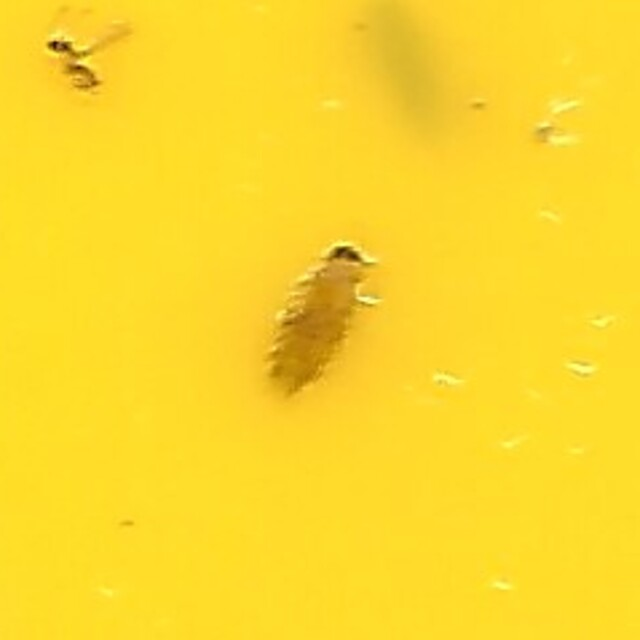Trichoptera: (268, 230, 372, 410)
